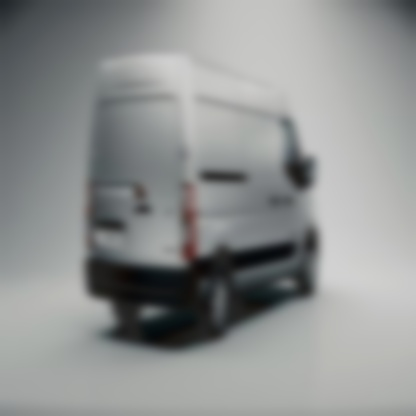Vehicle: (70, 38, 332, 346)
